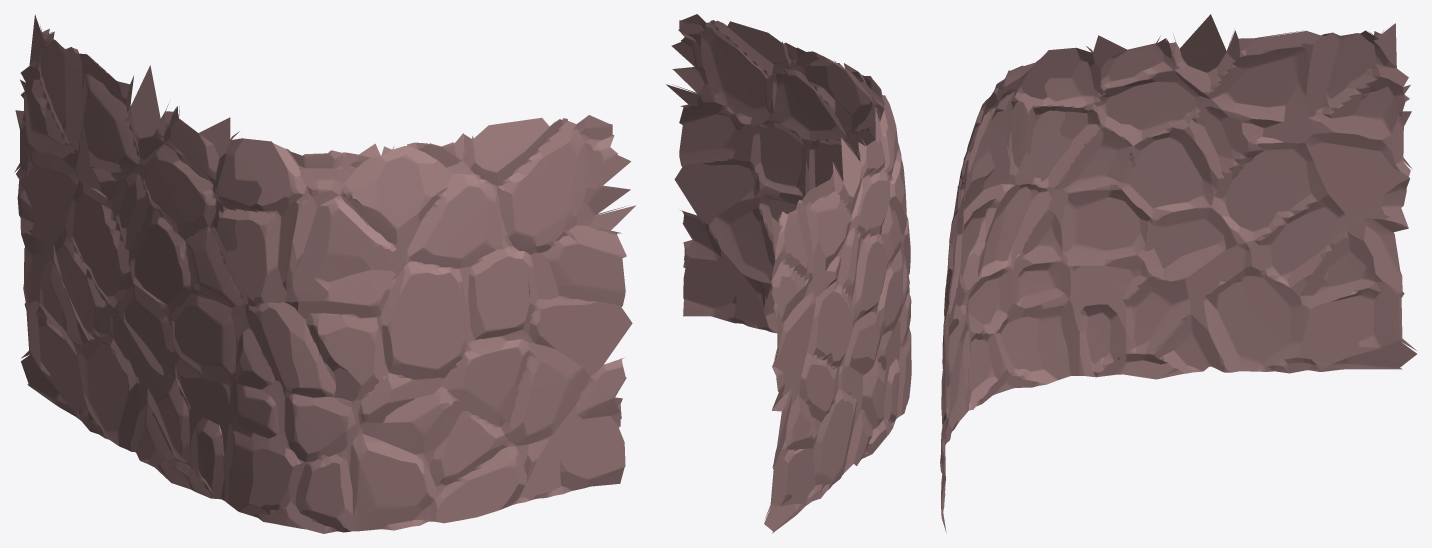
The model's file is mini_canyon.fbx_Cube__12__016LODs.fbx.
The picture shows the model from 3 angles, left to right: view 1: azimuth 30°, elevation 25°; view 2: azimuth 150°, elevation 25°; view 3: azimuth 270°, elevation 25°; orthographic projection. The views are drawn at different scales.
Visible parts, largest first — view 1: Cube (12).016_LOD0; view 2: Cube (12).016_LOD0; view 3: Cube (12).016_LOD0.
Part boxes in pixels (x1=…): Cube (12).016_LOD0: x1=14, y1=14, x2=635, y2=533; Cube (12).016_LOD0: x1=666, y1=14, x2=911, y2=533; Cube (12).016_LOD0: x1=940, y1=14, x2=1416, y2=533.
Size of what is drawn, in the model's own units: 4756 by 4788 by 5603.
